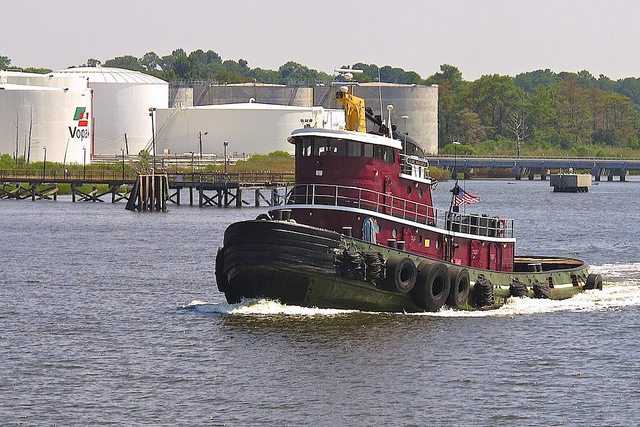tug_boat: (220, 93, 616, 320)
